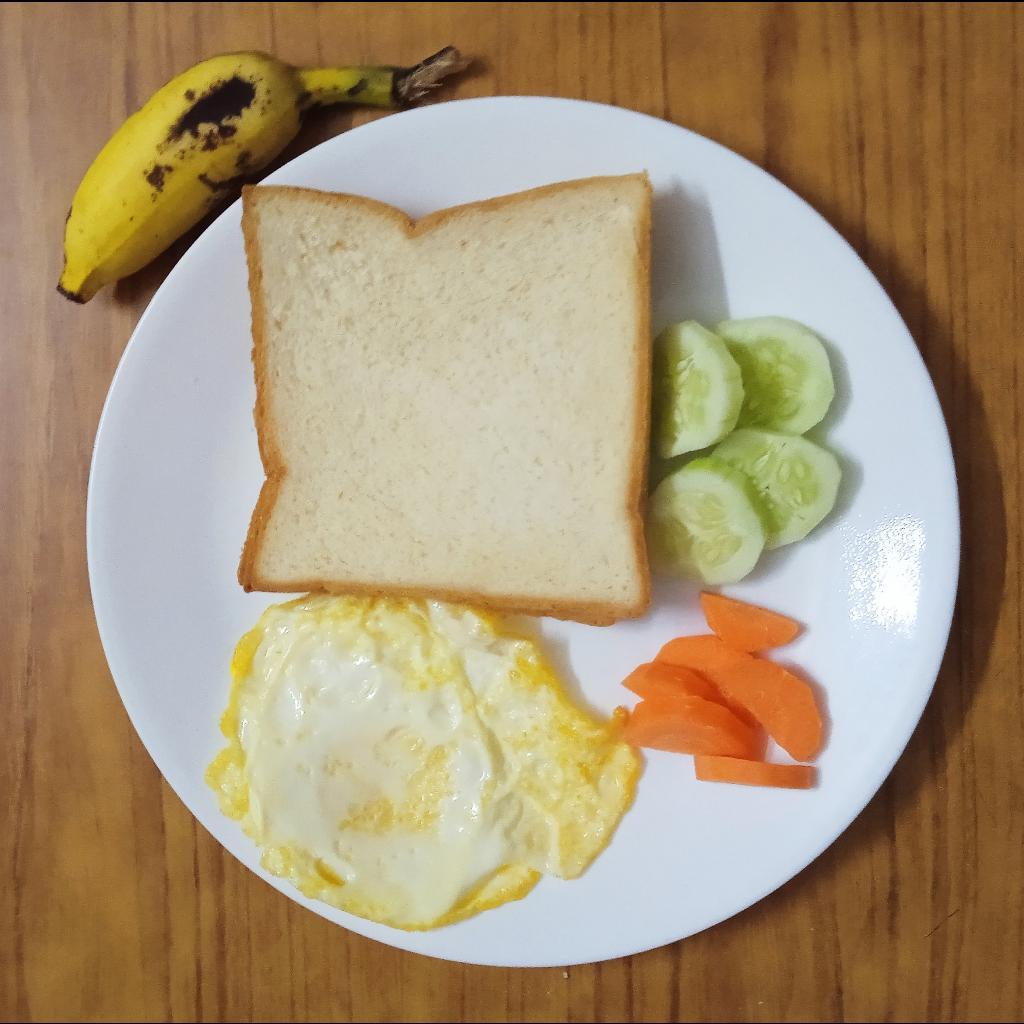banana: (56, 45, 404, 304)
bread: (234, 167, 653, 626)
carrot: (618, 590, 824, 789)
cucumber: (648, 313, 842, 586)
egg-poached: (204, 594, 644, 931)
